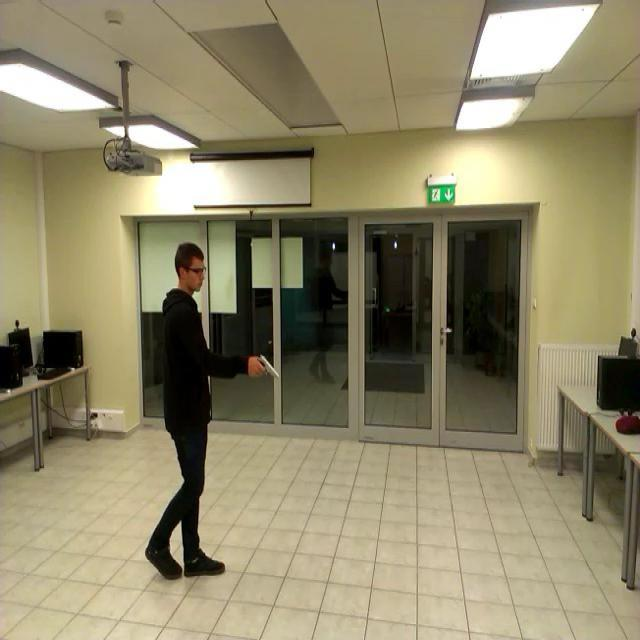weapon: (254, 355, 281, 382)
